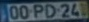0: (8, 5, 19, 20), (19, 4, 29, 20)
2: (59, 3, 70, 19)
4: (70, 3, 81, 18)
D: (44, 3, 56, 19)
P: (32, 3, 44, 19)
